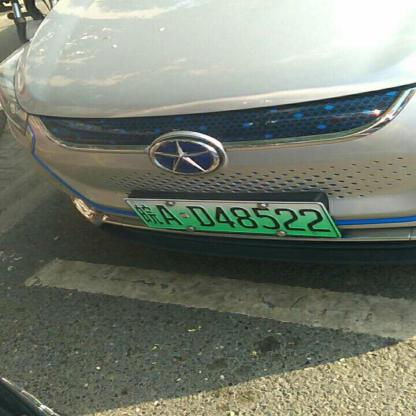lp: (126, 200, 340, 235)
